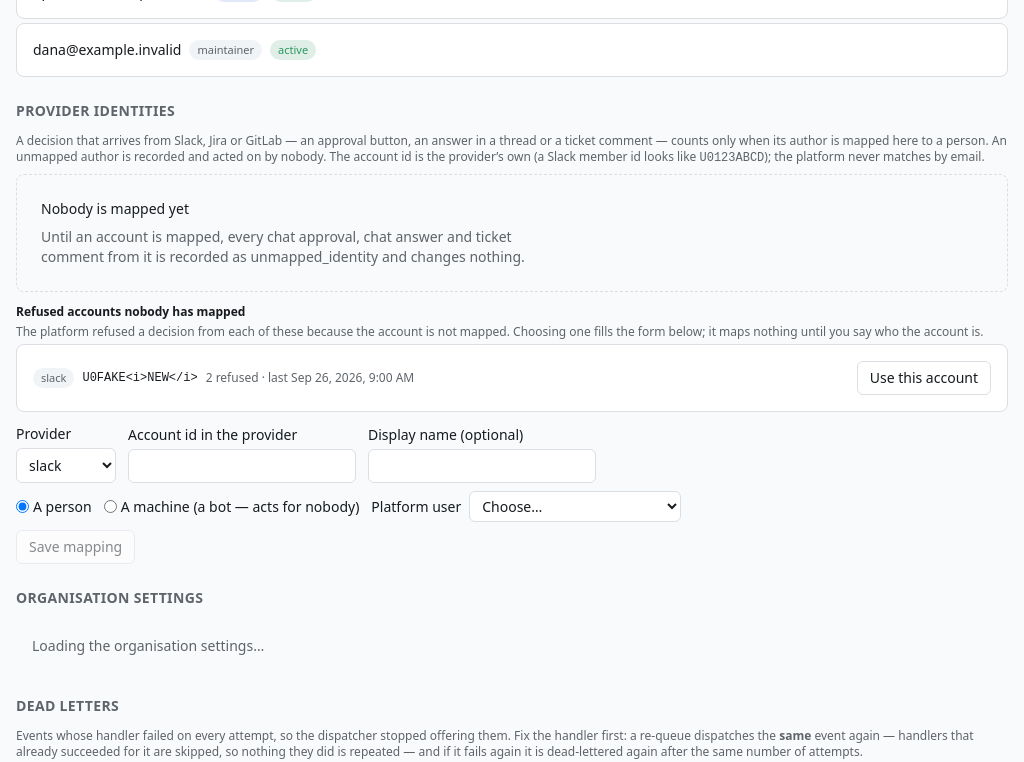
Test: the refused accounts nobody has mapped (WP-44, PROGRESS backlog 198) › offers them, fills the form with one, and writes nothing until the admin saves
The width and height of the screenshot is (1024, 762).
(page scrolled)
expect the text "Refused accounts nobody has mapped" is shown: met, box [16,303,245,320]
What coordinates should you click on to do the following:
click the button "Use this account"
I would click on:
 (924, 378)
Its box is [857,361,991,395].
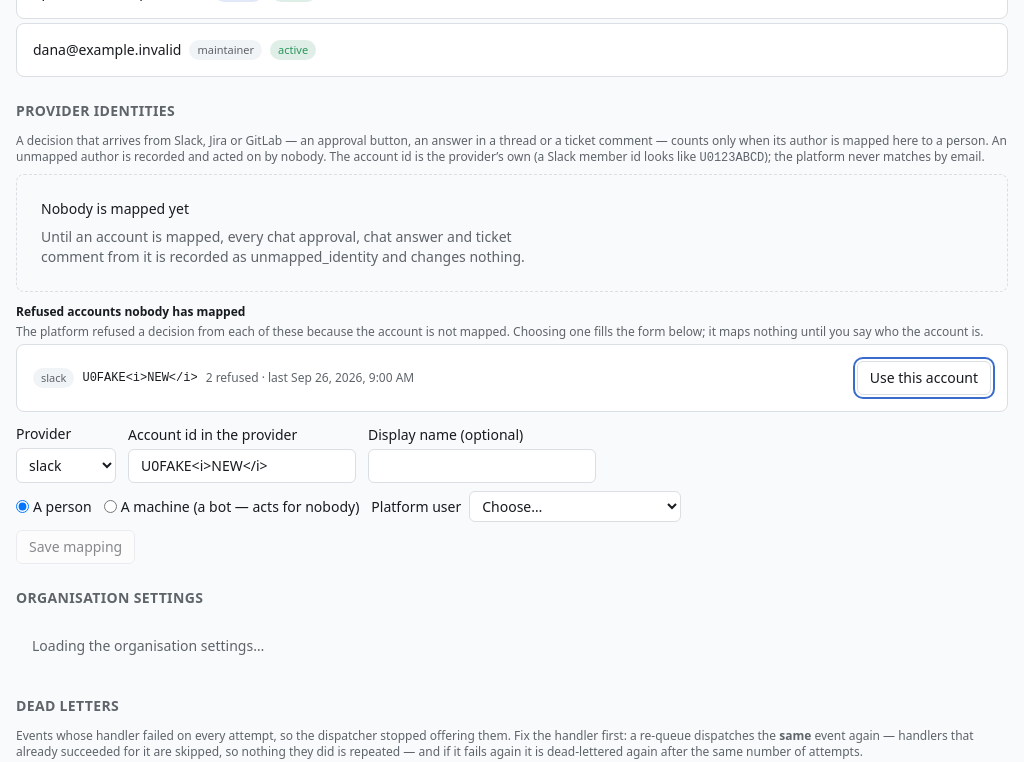
expect the field labelled "Account id in the provider" holds "U0FAKE<i>NEW</i>": met, box [128,449,356,483]
